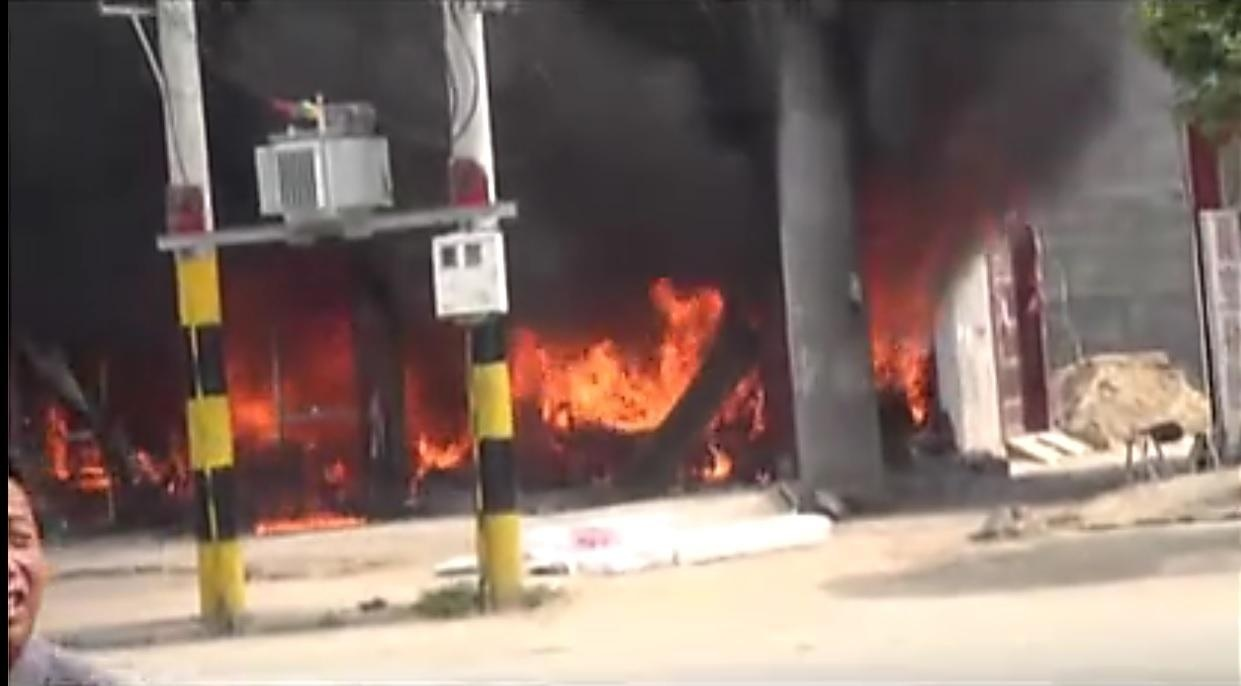fire: (504, 276, 762, 456), (867, 212, 943, 433), (254, 503, 362, 534)
